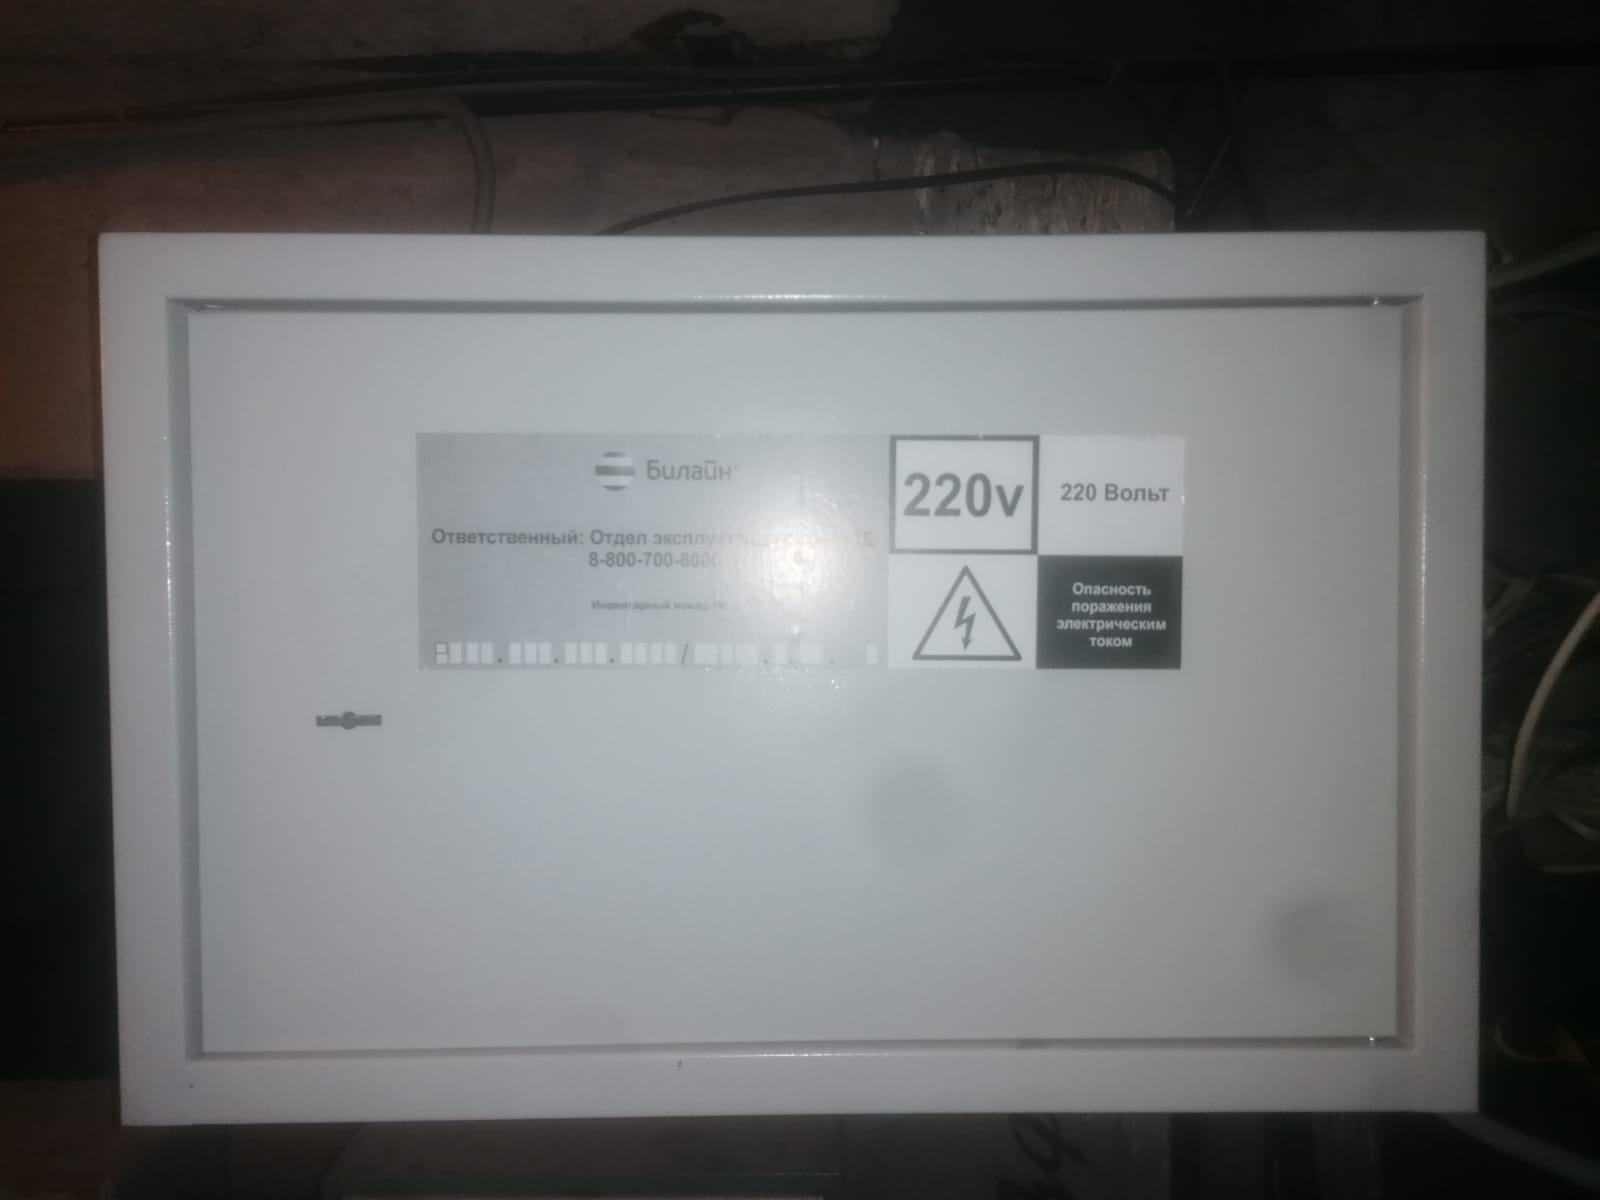shta-7m: (91, 226, 1493, 1128)
